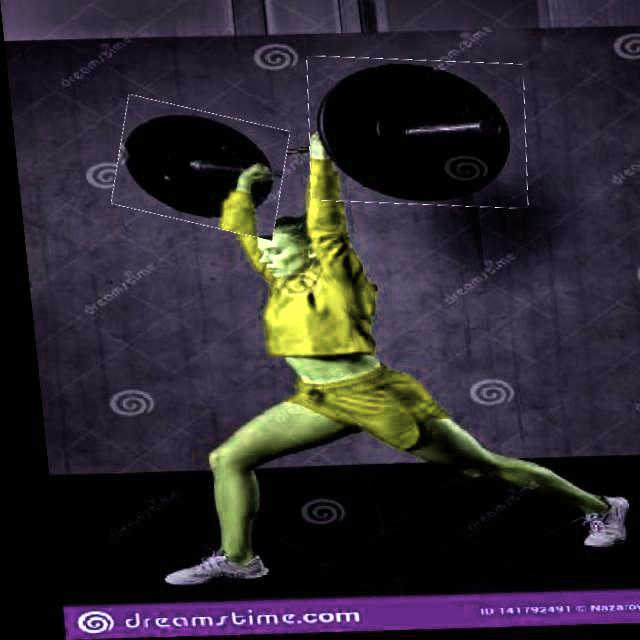barbell: (298, 56, 530, 213), (106, 101, 290, 237)
